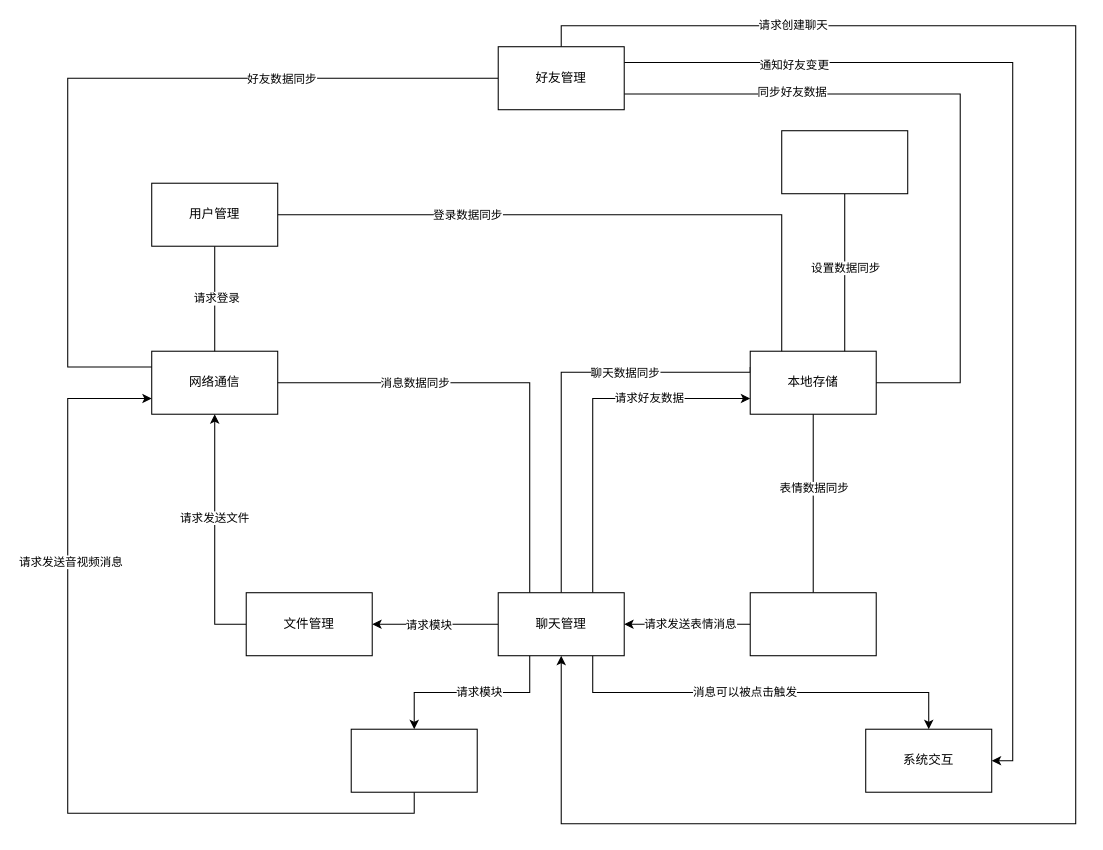
The diagram is 1103 pixels wide and 850 high, and some of its shapes have lost their labels. The centre of each missing label's shape, as x and y in pixels:
"表情管理" goes at (x=812, y=624).
"设置与偏好" goes at (x=844, y=162).
"音视频管理" goes at (x=413, y=760).
